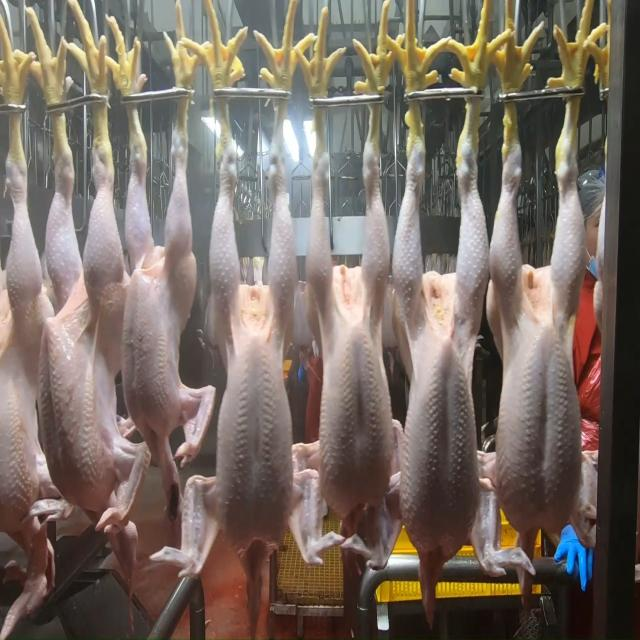chicken: (392, 192, 487, 566), (486, 187, 588, 535), (208, 178, 300, 544), (304, 201, 396, 525), (44, 168, 124, 522), (122, 162, 201, 446), (0, 178, 57, 547)
